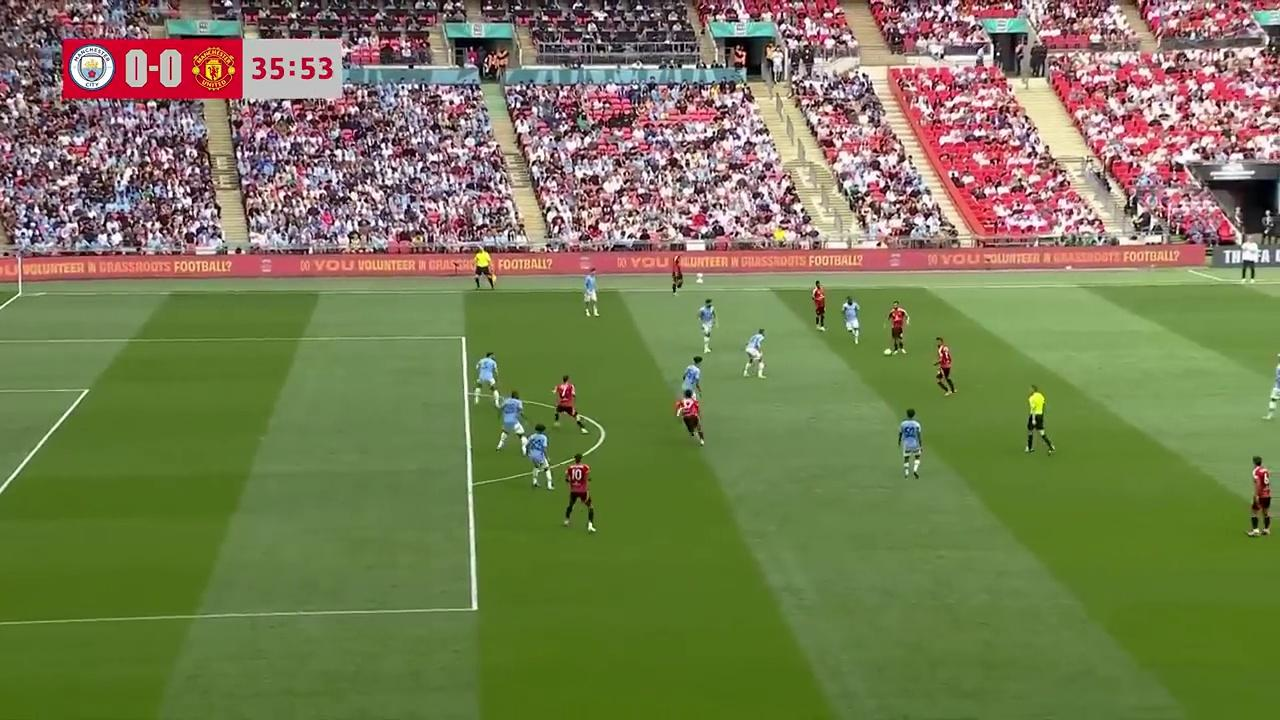player: (562, 454, 596, 531), (1246, 456, 1272, 537), (522, 422, 553, 489), (552, 373, 586, 433), (495, 389, 527, 452), (896, 408, 922, 479), (673, 390, 705, 445), (472, 351, 500, 406), (932, 337, 957, 396), (884, 303, 909, 356), (742, 327, 766, 378), (677, 355, 703, 402), (1264, 356, 1280, 419), (698, 298, 716, 352), (841, 296, 860, 343), (811, 282, 828, 330), (583, 271, 599, 317), (670, 255, 683, 295)
referee: (1023, 384, 1054, 454), (472, 248, 496, 290)
